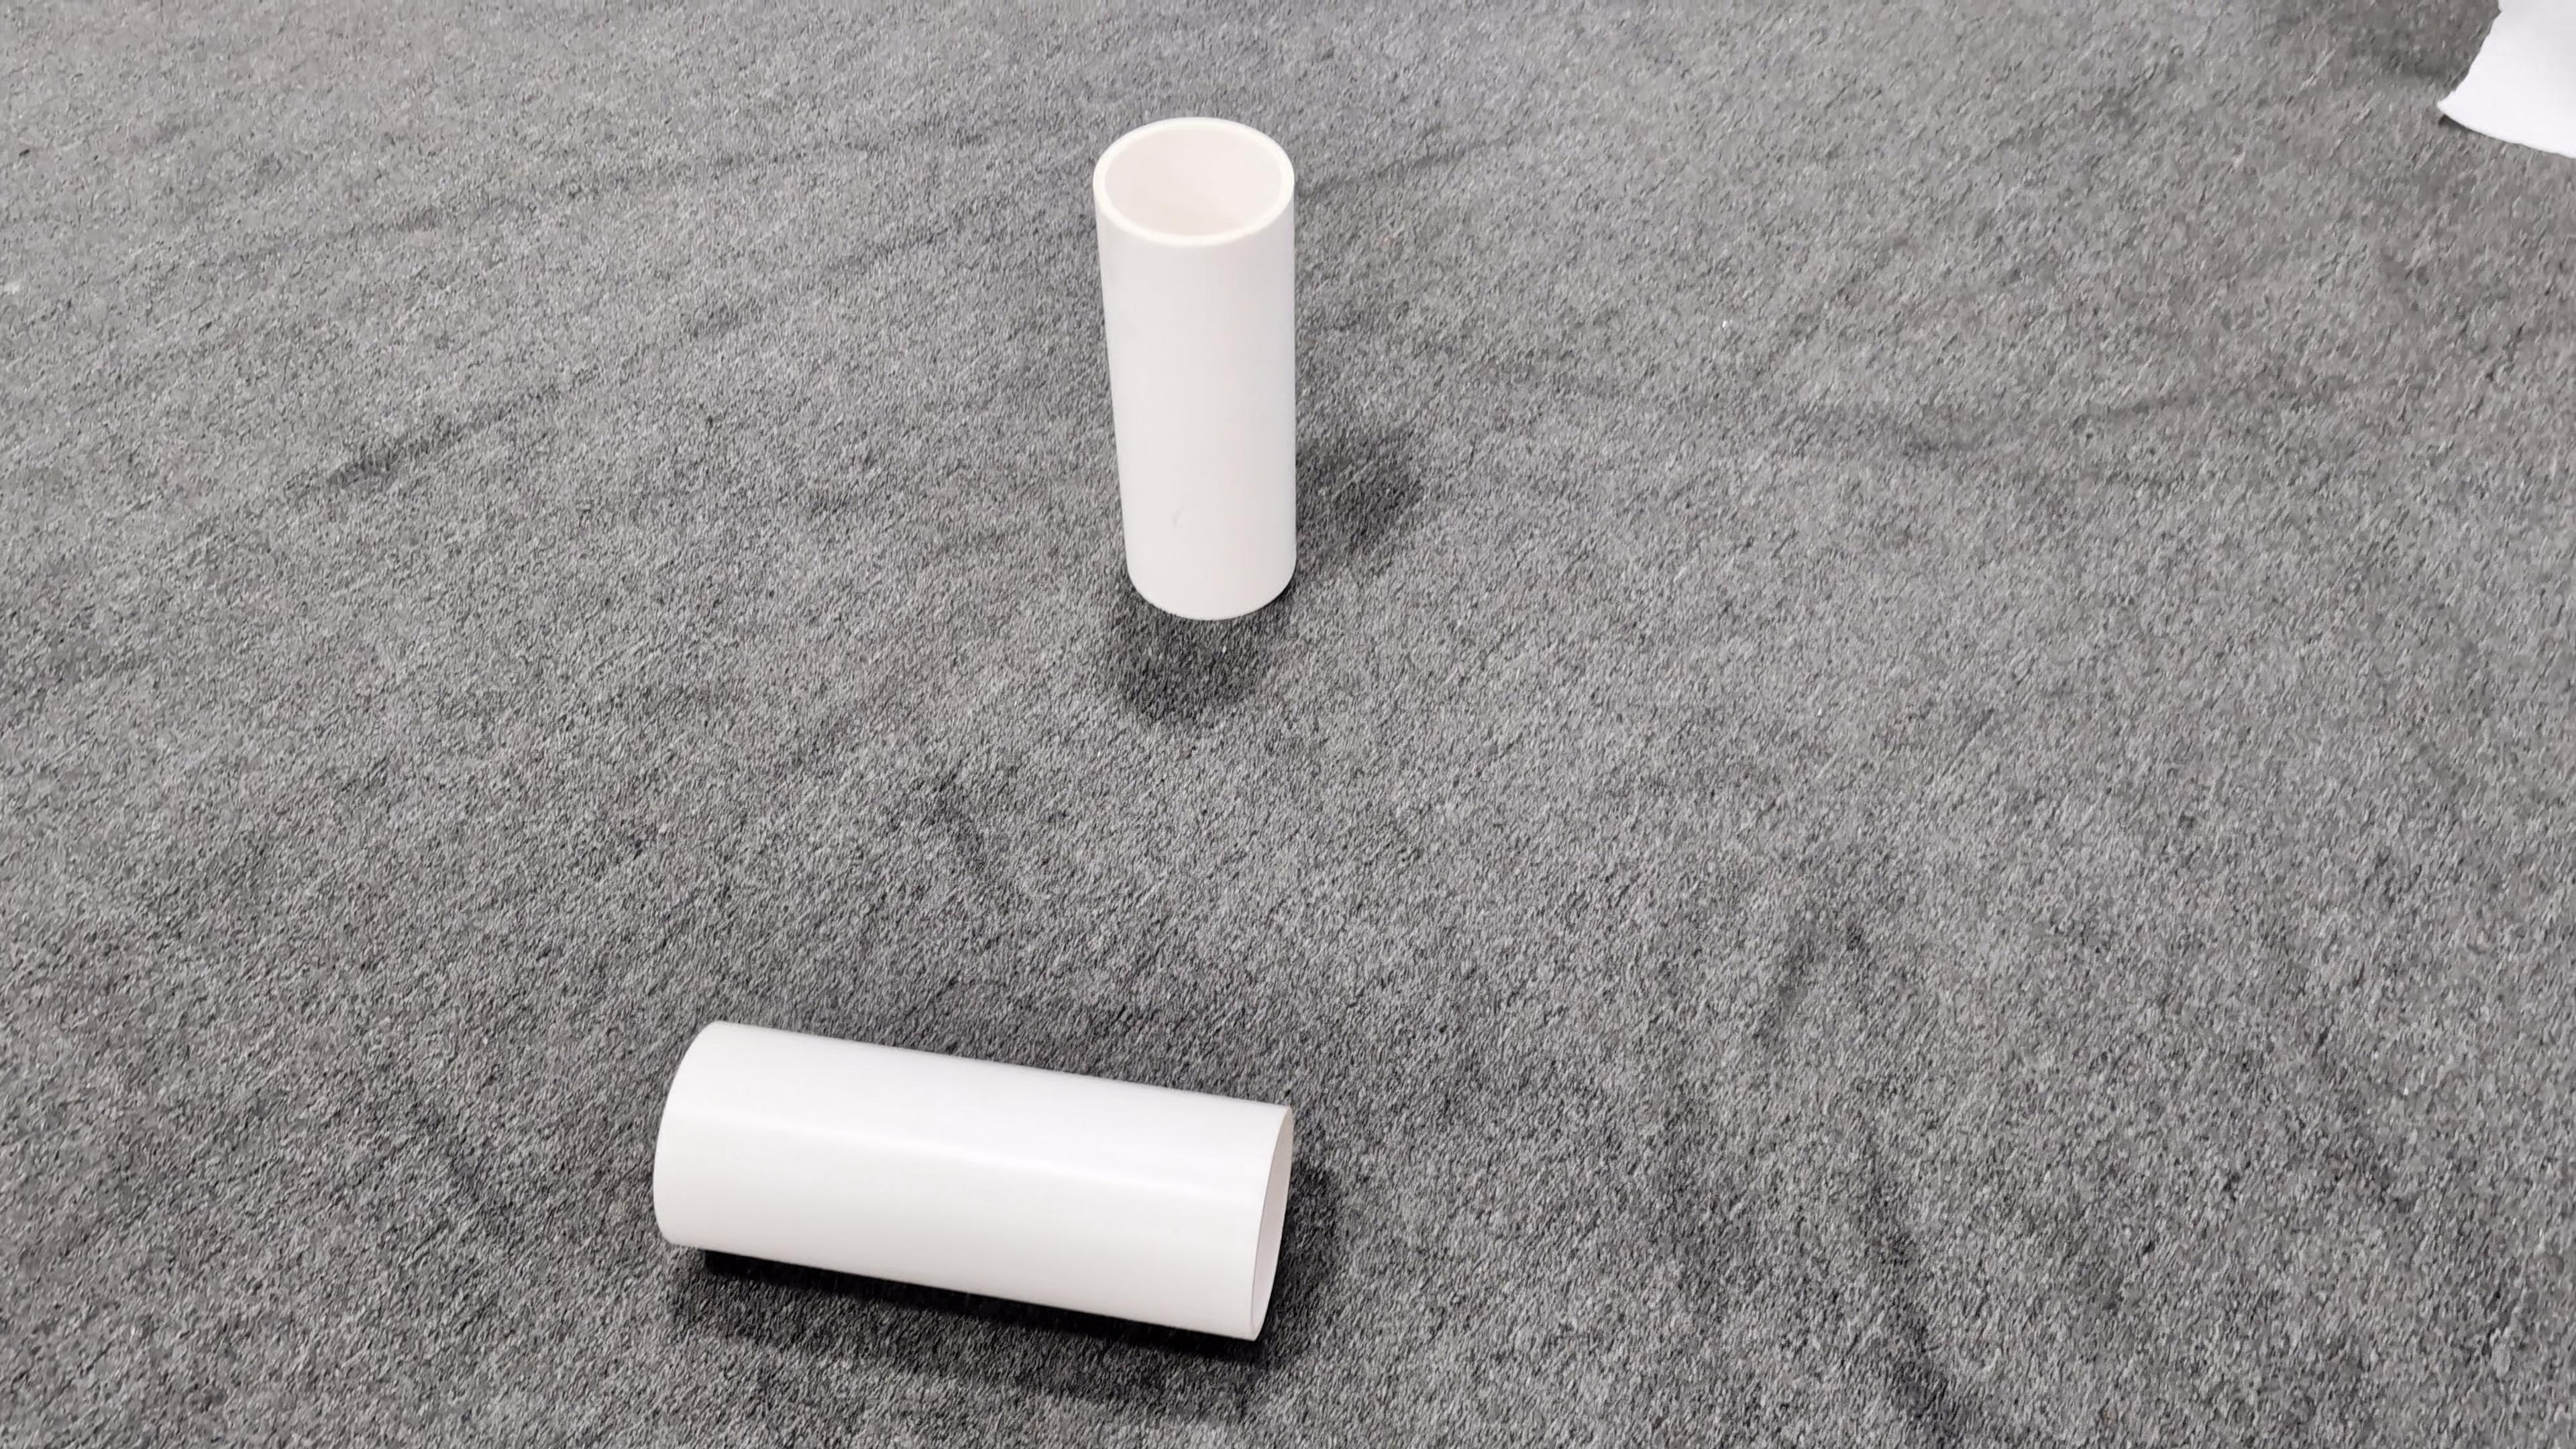coral: (655, 1021, 1295, 1341), (1095, 115, 1299, 621)
